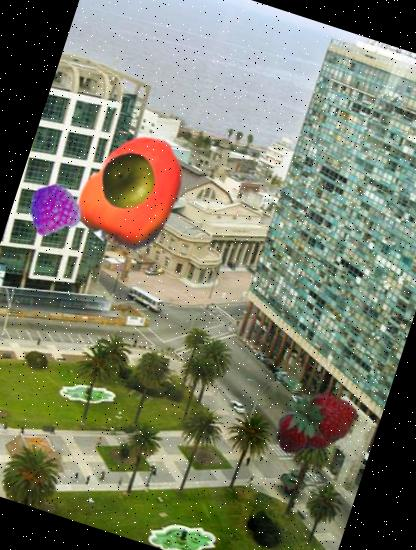Kaki: (62, 119, 209, 266)
Pomelo: (90, 144, 165, 218)
Raspberry: (21, 176, 86, 240)
Strawberry: (261, 367, 368, 474)
